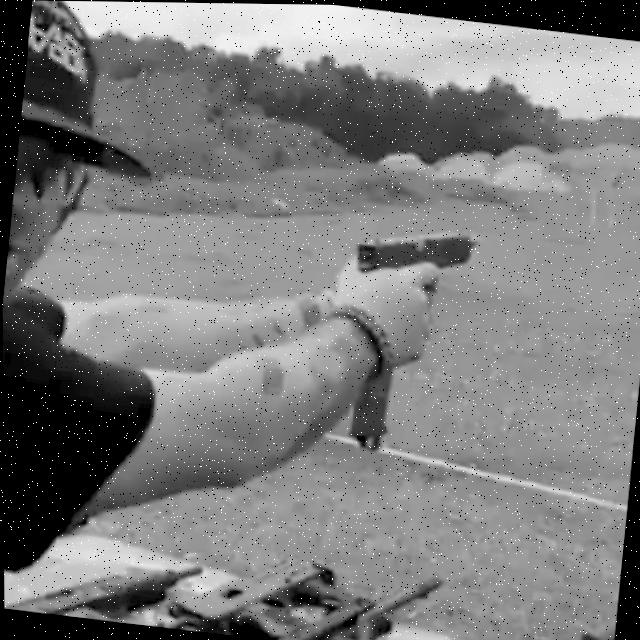firearm: (154, 532, 342, 640), (3, 537, 205, 630), (421, 577, 617, 640)
pistol: (351, 216, 473, 271)
